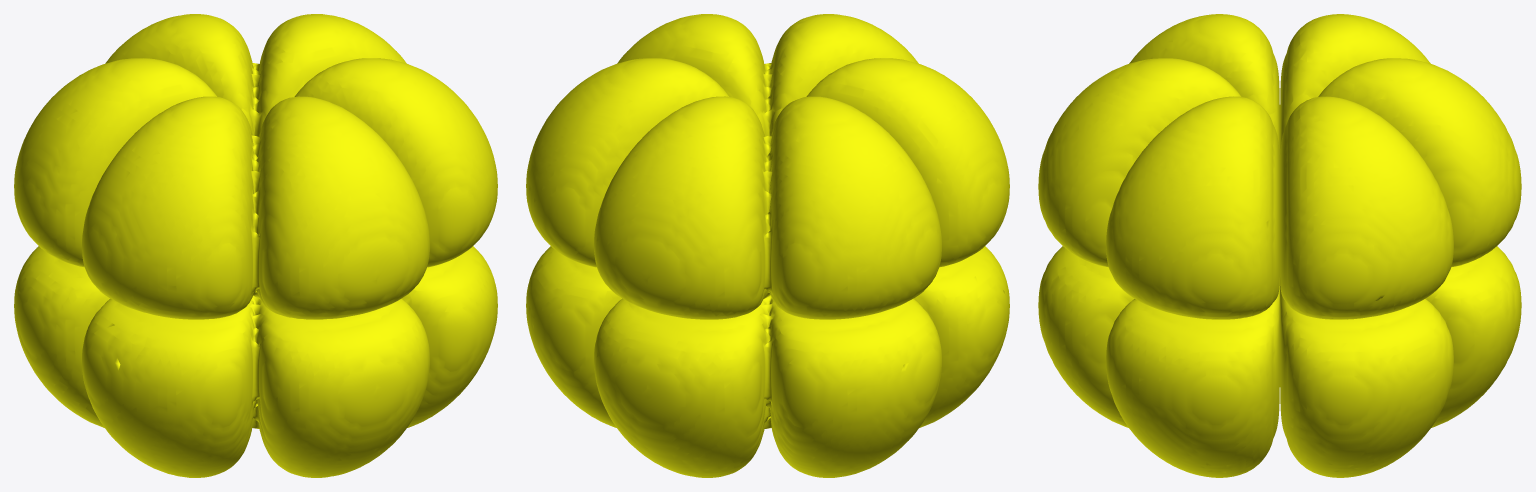
Rendered from orb_n=7_ l=4 _m=-3.fbx.
3 renders of one model, left to right at view 1: azimuth 30°, elevation 25°; view 2: azimuth 150°, elevation 25°; view 3: azimuth 270°, elevation 25°, orthographic.
Visible parts, largest first — view 1: orb_n=7_ l=4 _m=-3; view 2: orb_n=7_ l=4 _m=-3; view 3: orb_n=7_ l=4 _m=-3.
Part boxes in pixels (x1=…): orb_n=7_ l=4 _m=-3: x1=14, y1=14, x2=497, y2=477; orb_n=7_ l=4 _m=-3: x1=526, y1=14, x2=1009, y2=477; orb_n=7_ l=4 _m=-3: x1=1038, y1=14, x2=1521, y2=477.
Size of the model in its own units: 22475 by 19966 by 24020.
